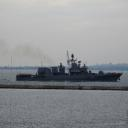Fragata: (16, 50, 124, 83)
